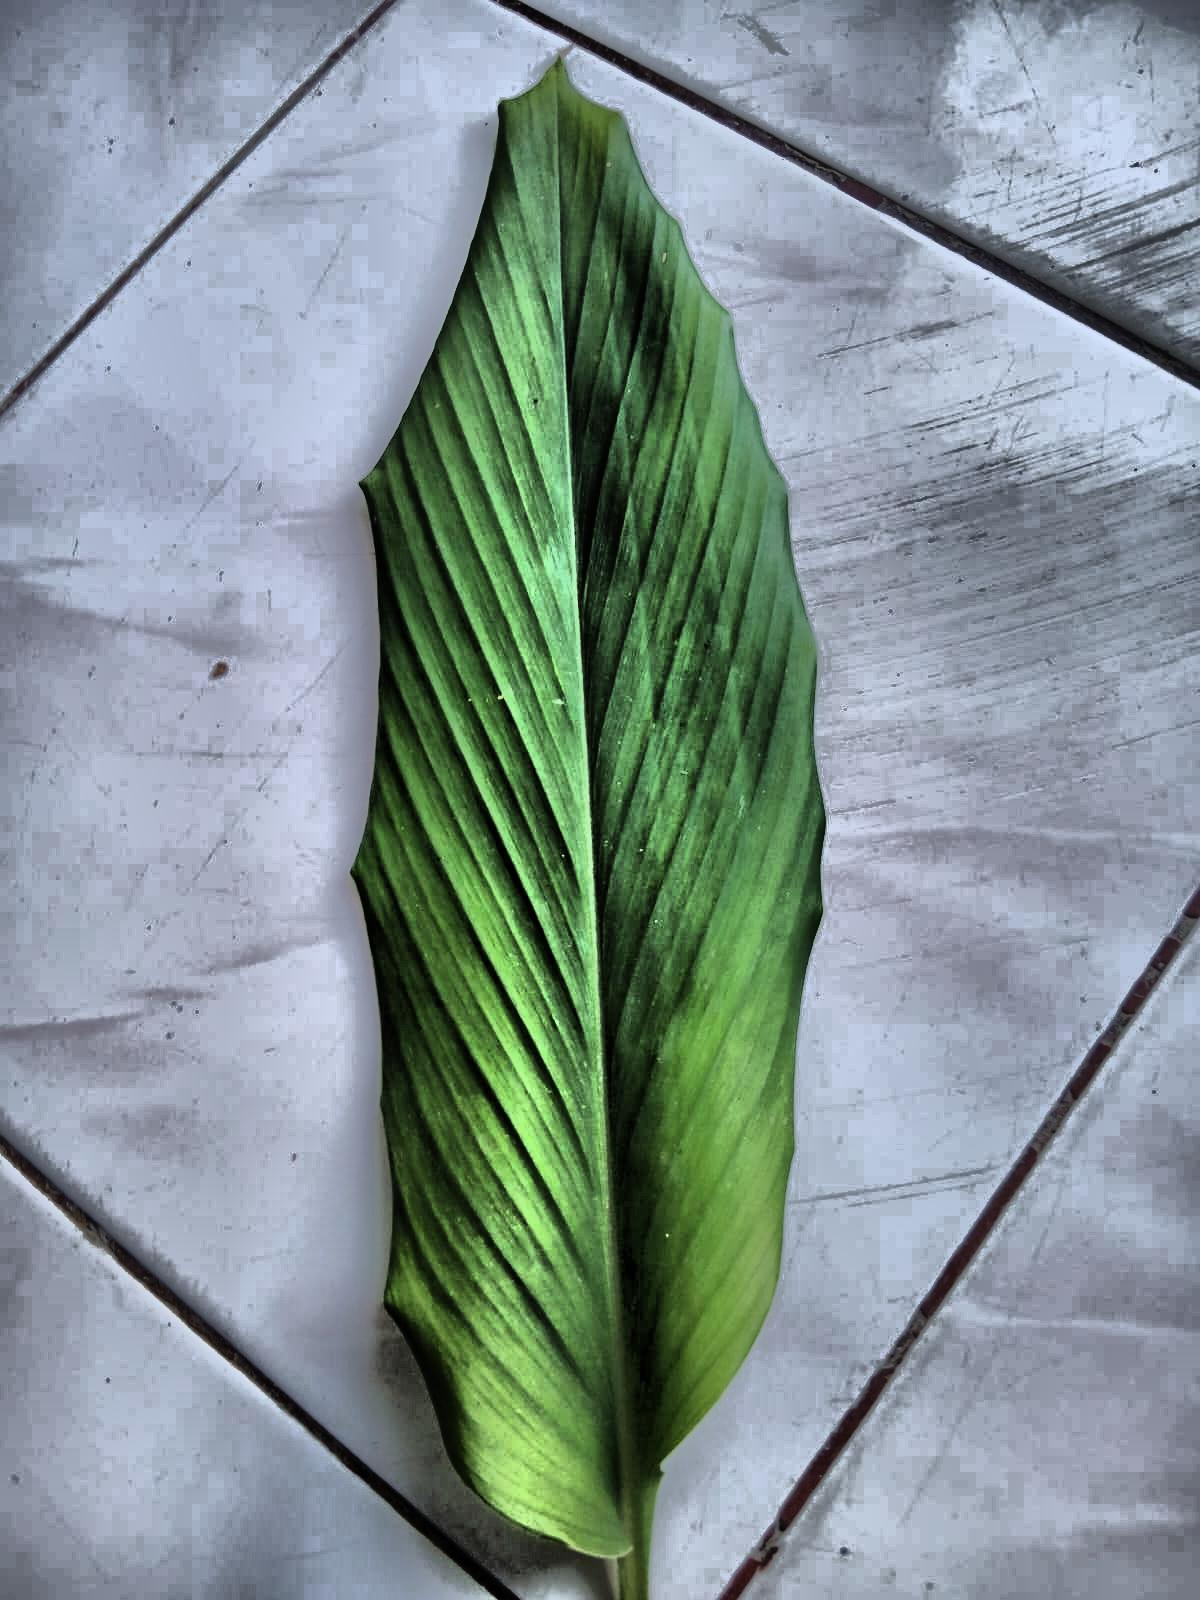daun kunyit: (352, 60, 824, 1599)
